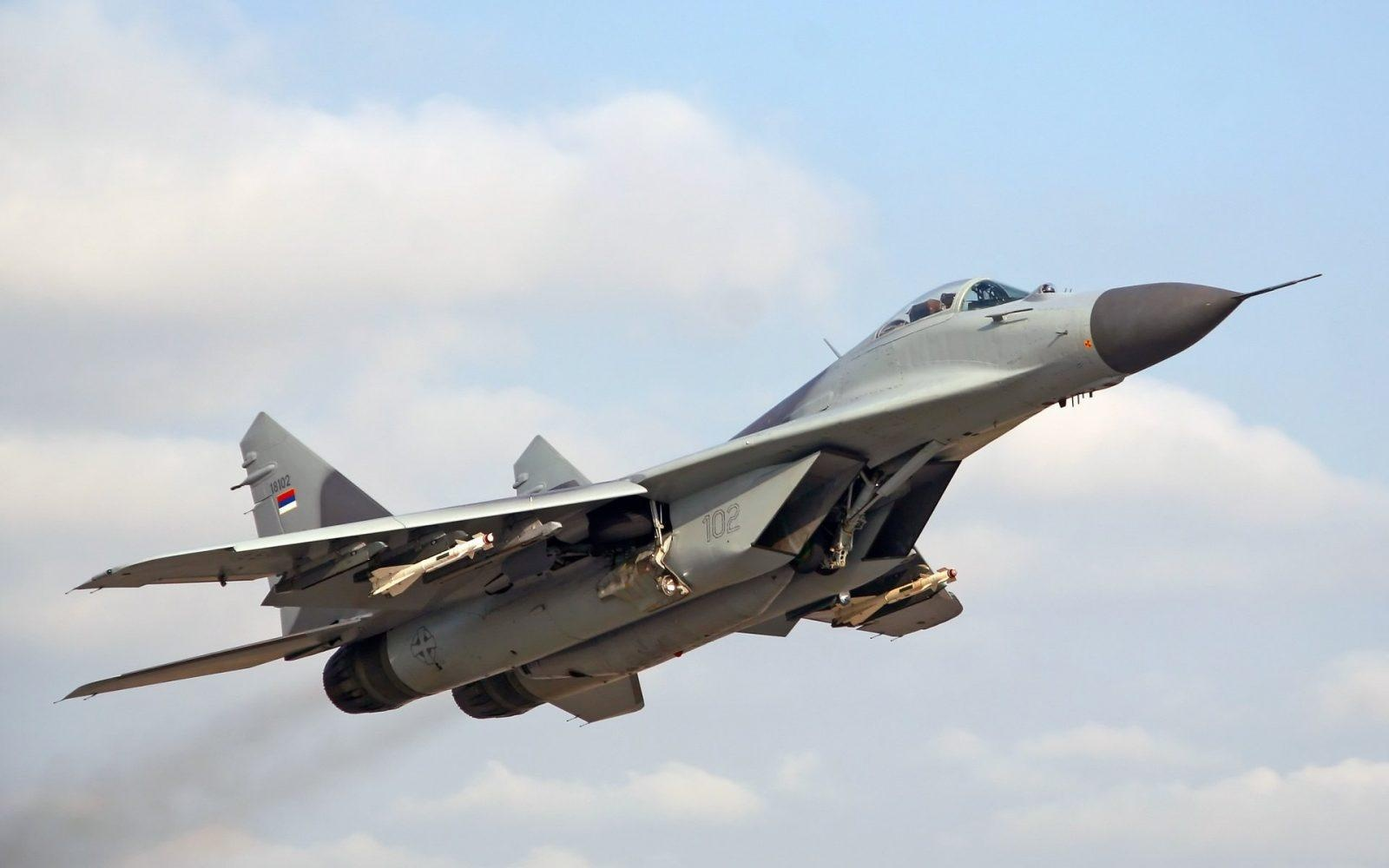aircraft: (46, 267, 1321, 732)
